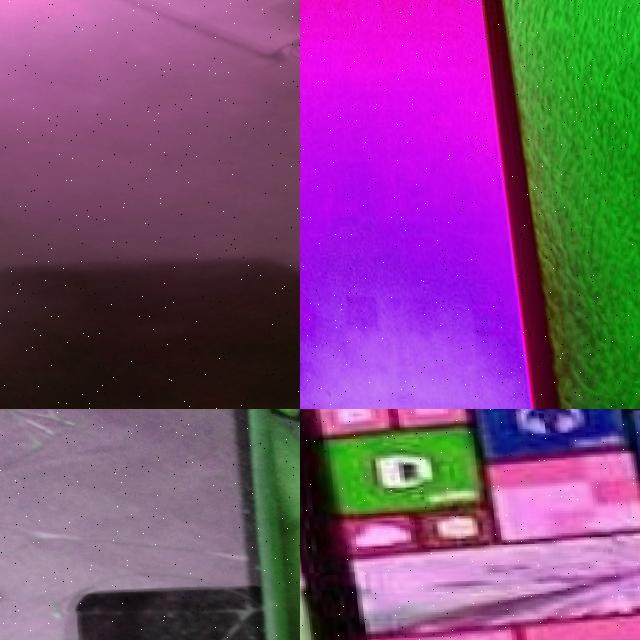screen crack: (0, 409, 299, 640), (26, 0, 300, 103)
